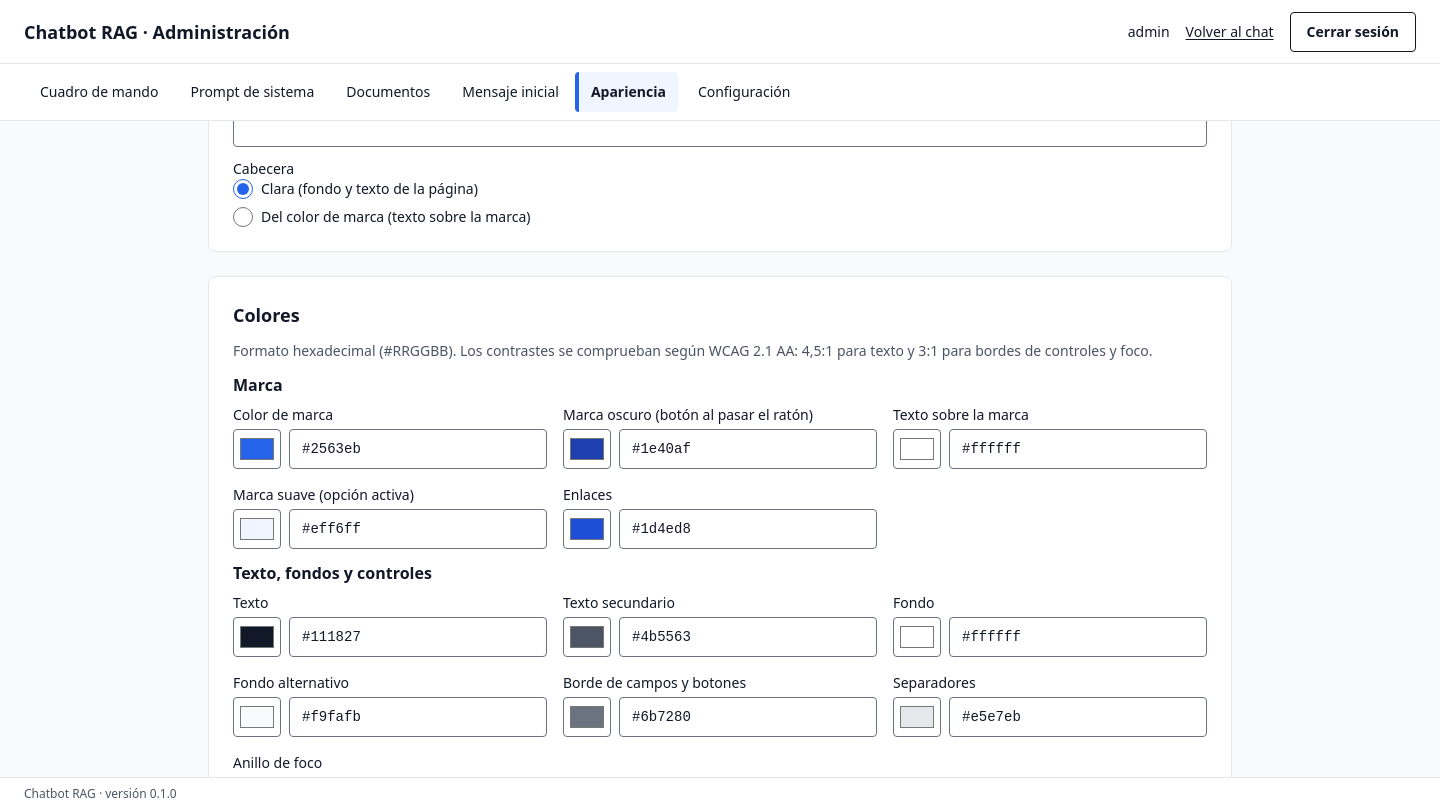
it: AppearancePage › no envía colores con formato incorrecto
(page scrolled)
Replace the text in the field labelled "Color de marca" with "rojo" at (418, 449), box [289,429,547,469]
(page scrolled)
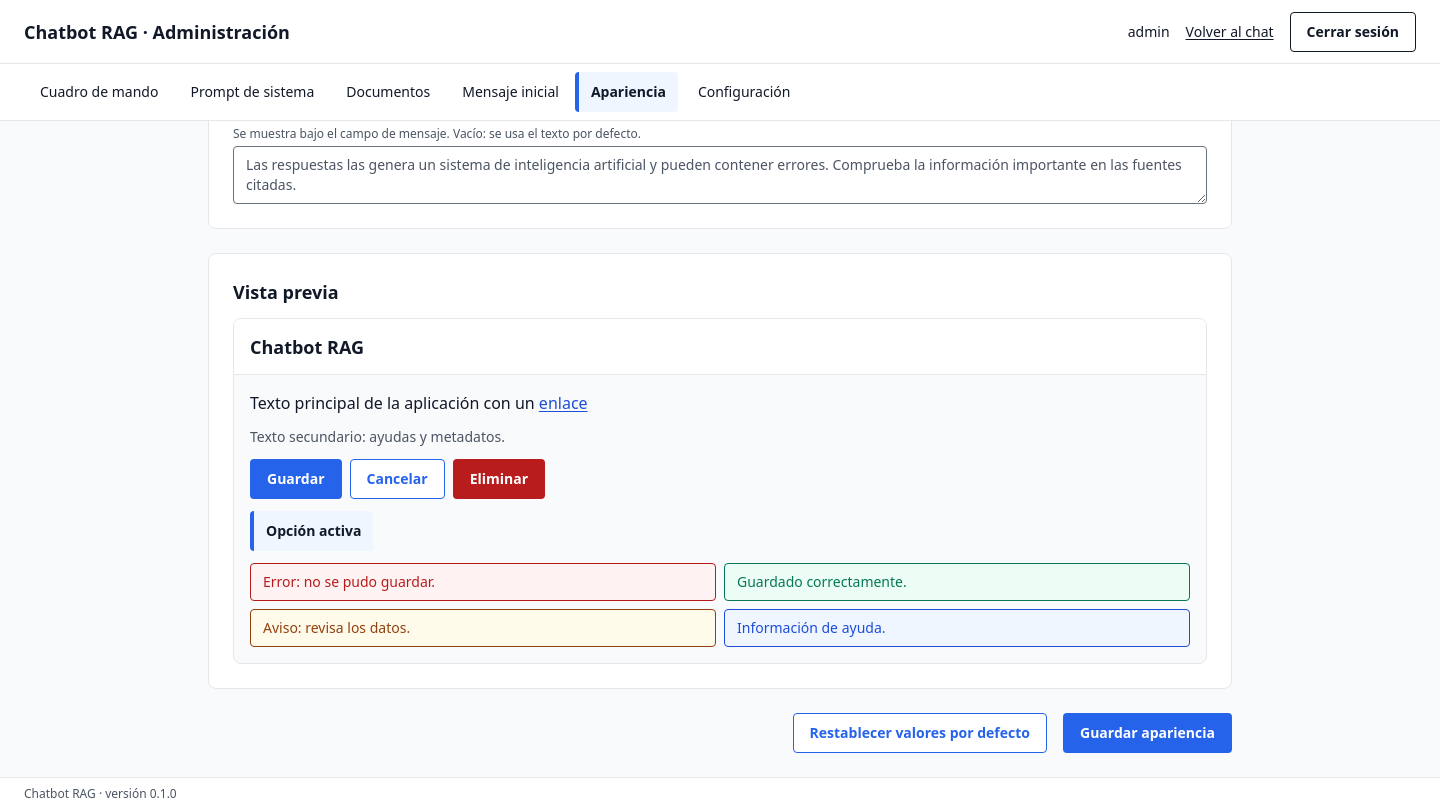
Click the button "Guardar apariencia".
click(1148, 733)  # box [1063,713,1232,753]
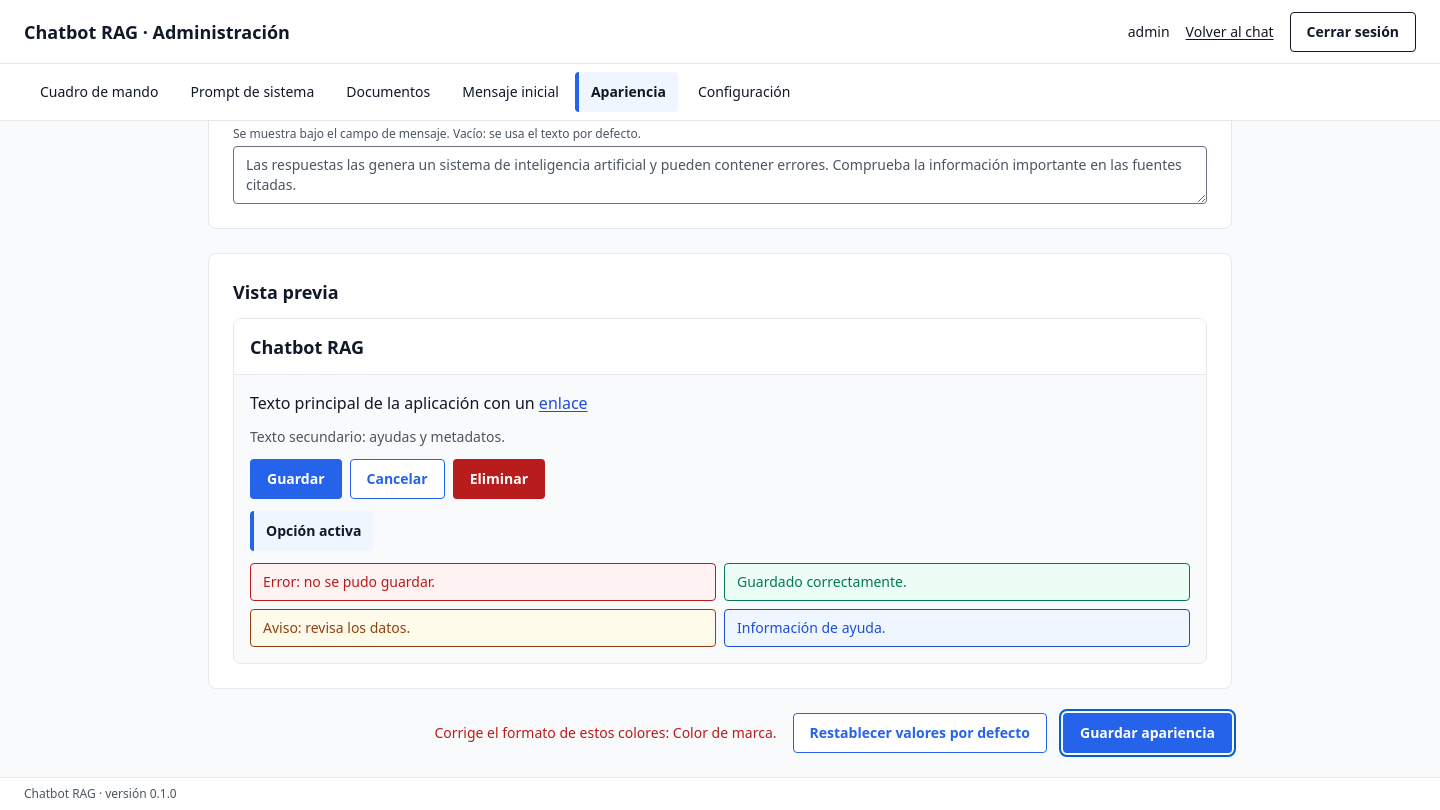
Expected: the message reads "Corrige el formato de estos colores: Color de marca.", [434,723,776,742]
